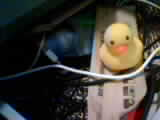duck: (93, 24, 138, 63)
